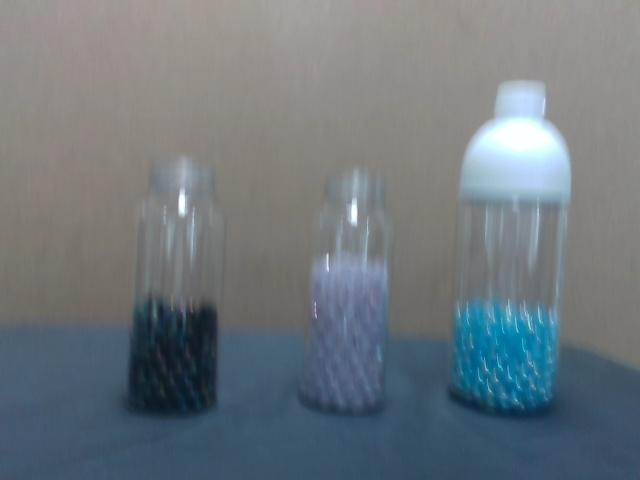black_bottle: (122, 288, 222, 414)
blue_bottle: (446, 297, 563, 413)
purple_bottle: (299, 251, 395, 414)
